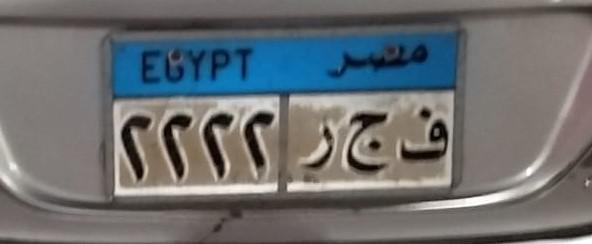2: (156, 101, 196, 182), (119, 101, 155, 184), (197, 107, 236, 181), (245, 101, 277, 175)
ج: (338, 102, 381, 177)
ر: (292, 116, 340, 172)
ف: (394, 106, 449, 176)
